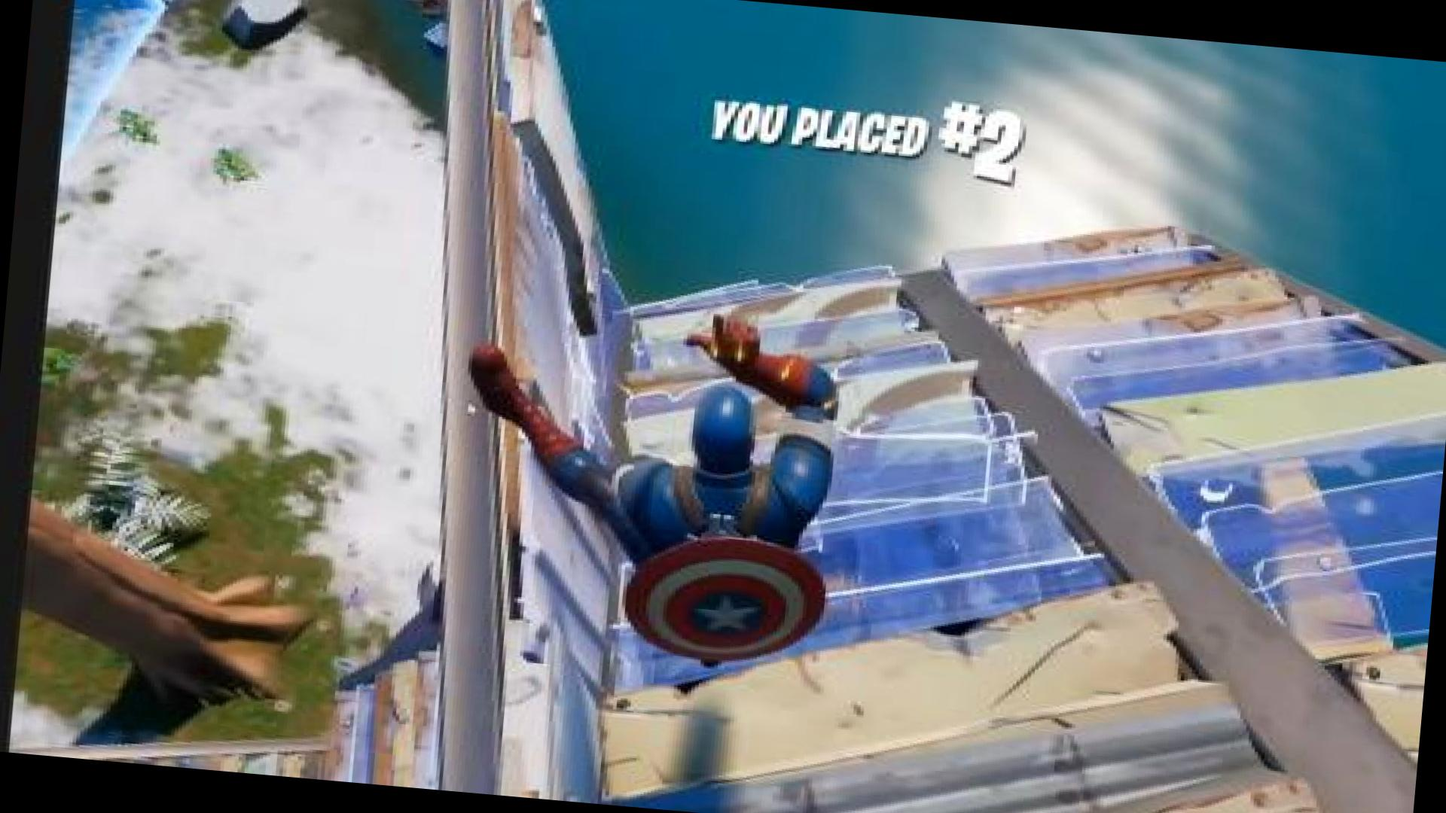player: (512, 352, 889, 700)
